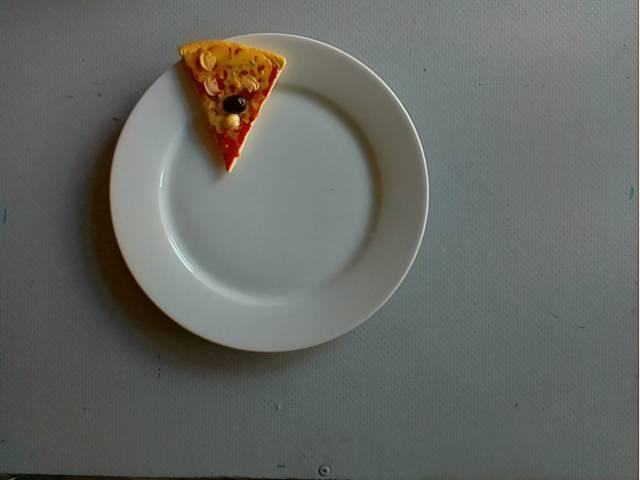Pizza slice (mushroom): (174, 42, 289, 173)
